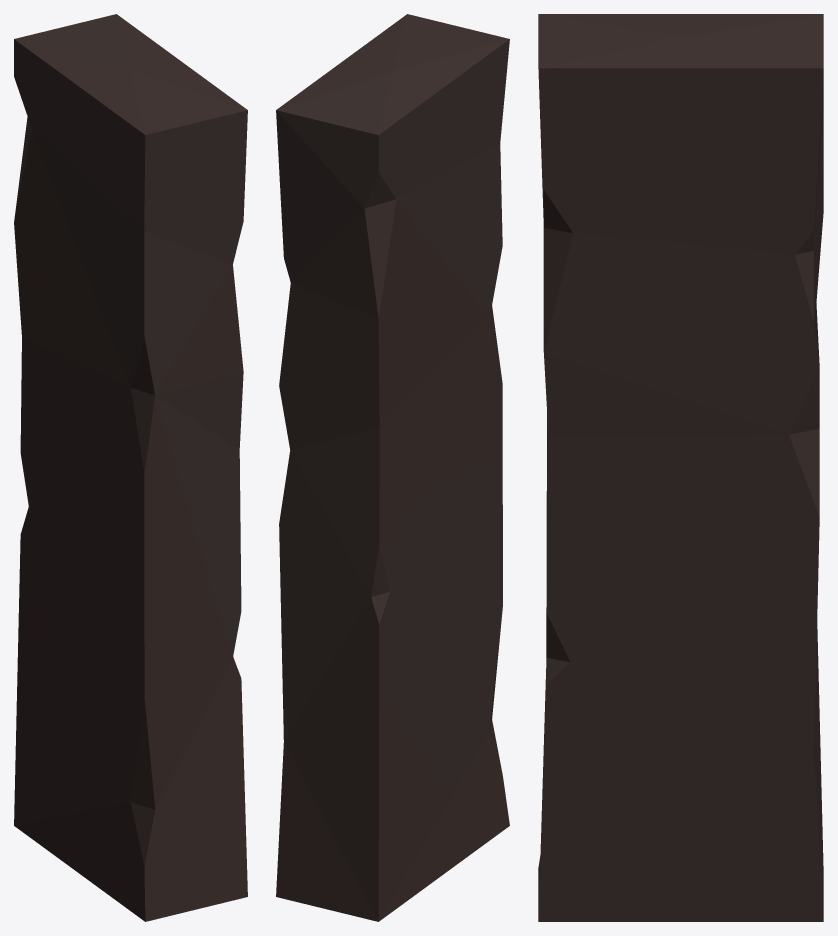
File: samurai_SM_Bld_Wall_Pillar_Half_02.gltf
3 renders of one model, left to right at view 1: azimuth 30°, elevation 25°; view 2: azimuth 150°, elevation 25°; view 3: azimuth 270°, elevation 25°, orthographic. The views are drawn at different scales.
Visible parts, largest first — view 1: SM_Bld_Wall_Pillar_Half_02; view 2: SM_Bld_Wall_Pillar_Half_02; view 3: SM_Bld_Wall_Pillar_Half_02.
Boxes of the visible parts, box(x1,y1,x2,y2) form: SM_Bld_Wall_Pillar_Half_02: box(14, 14, 247, 921); SM_Bld_Wall_Pillar_Half_02: box(276, 14, 509, 921); SM_Bld_Wall_Pillar_Half_02: box(538, 14, 823, 921).
Bounding box in the file's own units: 0.2047 × 1.51 × 0.454.
Materials: 1 (1 with a texture image).
